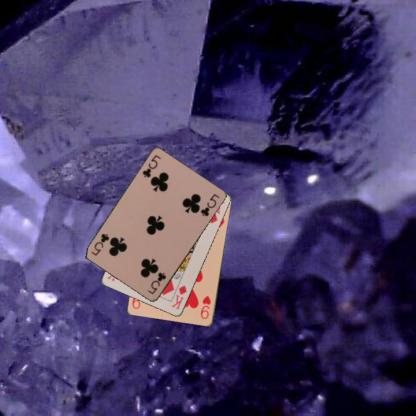5c: (145, 270, 168, 296), (140, 153, 162, 179)
9h: (198, 293, 212, 321)
Kd: (168, 282, 187, 311)
